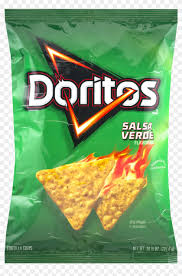Doritos: (15, 15, 176, 246)
